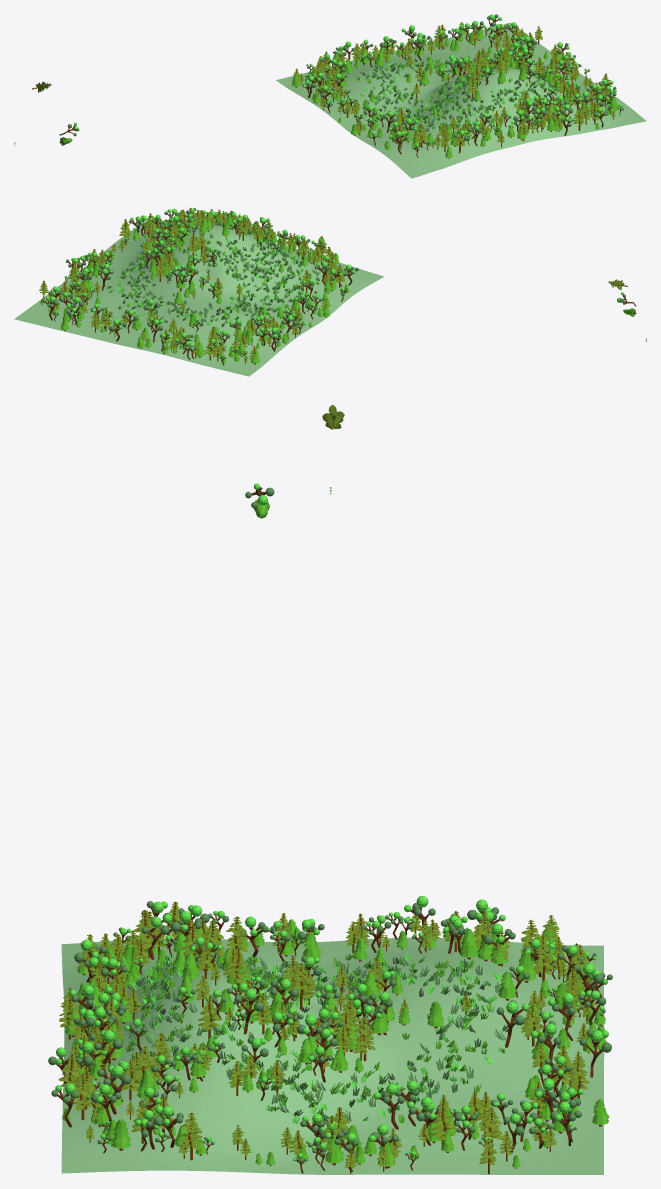
The model's file is forestMap.gltf.
3 views of the same model, one above another, from view 1: azimuth 30°, elevation 25°; view 2: azimuth 150°, elevation 25°; view 3: azimuth 270°, elevation 25° (orthographic). The views are drawn at different scales.
Parts seen in each view (by area): view 1: Plane; view 2: Plane; view 3: Plane.
Part boxes in pixels (<box>): Plane: <box>276,23,646,178</box>; Plane: <box>14,221,383,376</box>; Plane: <box>61,937,604,1174</box>.
Bounding box in the file's own units: 241 × 49.33 × 104.
